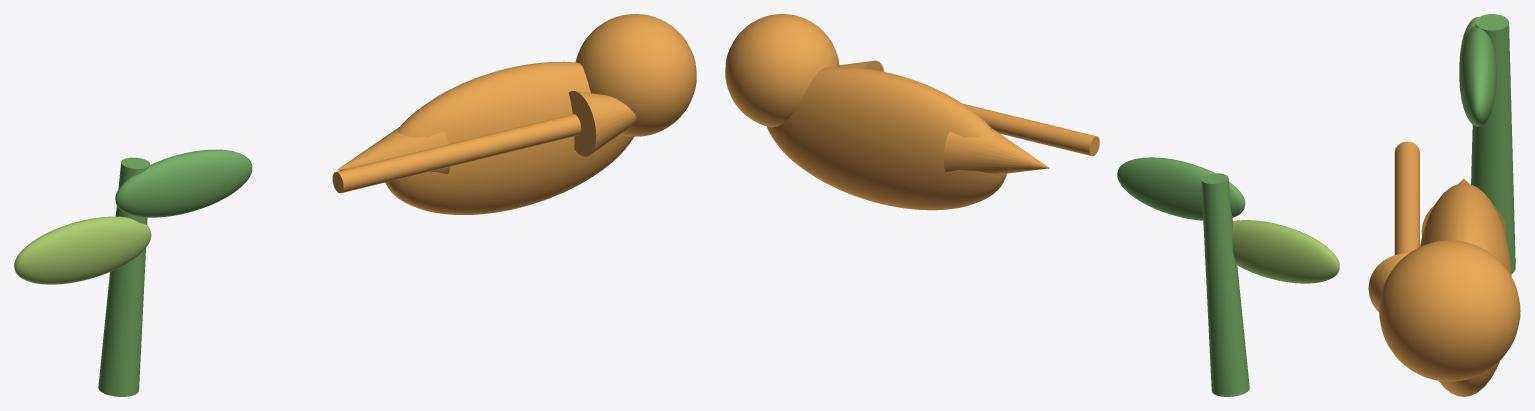
The model's file is bio-p1-consumer.glb.
3 views of the same model, side by side, from view 1: azimuth 30°, elevation 25°; view 2: azimuth 150°, elevation 25°; view 3: azimuth 270°, elevation 25° (orthographic). The views are drawn at different scales.
Visible parts, largest first — view 1: consumer-eating-animal-body, consumer-eating-animal-head, producer-plant-leaf-left, producer-plant-leaf-right, producer-plant-stem, energy-from-food-arrow-shaft, energy-from-food-arrow-head, consumer-eating-animal-tail; view 2: consumer-eating-animal-body, consumer-eating-animal-head, producer-plant-stem, producer-plant-leaf-left, producer-plant-leaf-right, consumer-eating-animal-tail, energy-from-food-arrow-shaft; view 3: consumer-eating-animal-head, producer-plant-stem, consumer-eating-animal-body, producer-plant-leaf-right, energy-from-food-arrow-shaft, energy-from-food-arrow-head, consumer-eating-animal-tail, producer-plant-leaf-left.
Boxes of the visible parts, box(x1,y1,x2,y2) form: consumer-eating-animal-body: box(385, 61, 633, 214); consumer-eating-animal-head: box(575, 14, 696, 136); producer-plant-leaf-left: box(14, 216, 151, 284); producer-plant-leaf-right: box(115, 149, 252, 217); producer-plant-stem: box(98, 157, 150, 396); energy-from-food-arrow-shaft: box(332, 114, 581, 193); energy-from-food-arrow-head: box(568, 91, 636, 156); consumer-eating-animal-tail: box(337, 127, 450, 173); consumer-eating-animal-body: box(767, 67, 1006, 210); consumer-eating-animal-head: box(725, 14, 839, 127); producer-plant-stem: box(1201, 173, 1249, 396); producer-plant-leaf-left: box(1232, 220, 1339, 283); producer-plant-leaf-right: box(1117, 157, 1245, 220); consumer-eating-animal-tail: box(943, 128, 1049, 174); energy-from-food-arrow-shaft: box(962, 103, 1099, 156); consumer-eating-animal-head: box(1379, 240, 1520, 381); producer-plant-stem: box(1471, 14, 1515, 273); consumer-eating-animal-body: box(1420, 183, 1511, 396); producer-plant-leaf-right: box(1459, 26, 1496, 126); energy-from-food-arrow-shaft: box(1394, 141, 1419, 254); energy-from-food-arrow-head: box(1368, 253, 1408, 311); consumer-eating-animal-tail: box(1421, 179, 1506, 236); producer-plant-leaf-left: box(1459, 17, 1478, 69).
Size of what is drawn, in the model's own units: 1.24 by 0.4715 by 0.215.
